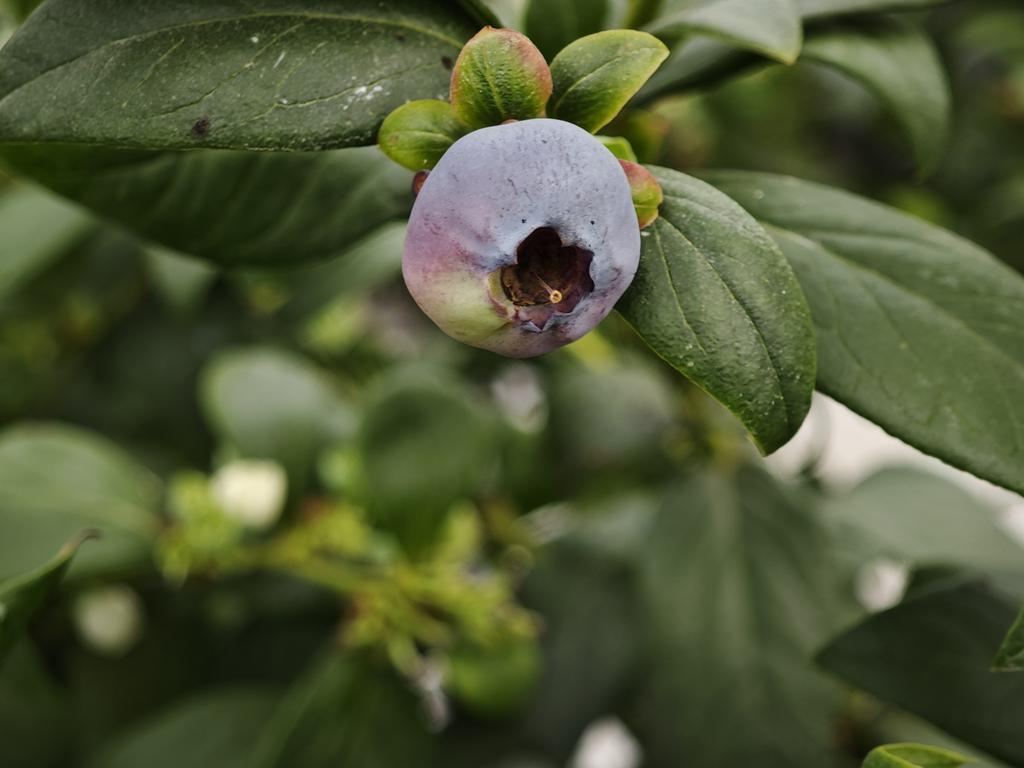Semi-RipeBlueBerry: (395, 113, 646, 359)
